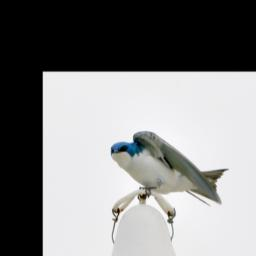Swallow: (110, 131, 230, 209)
